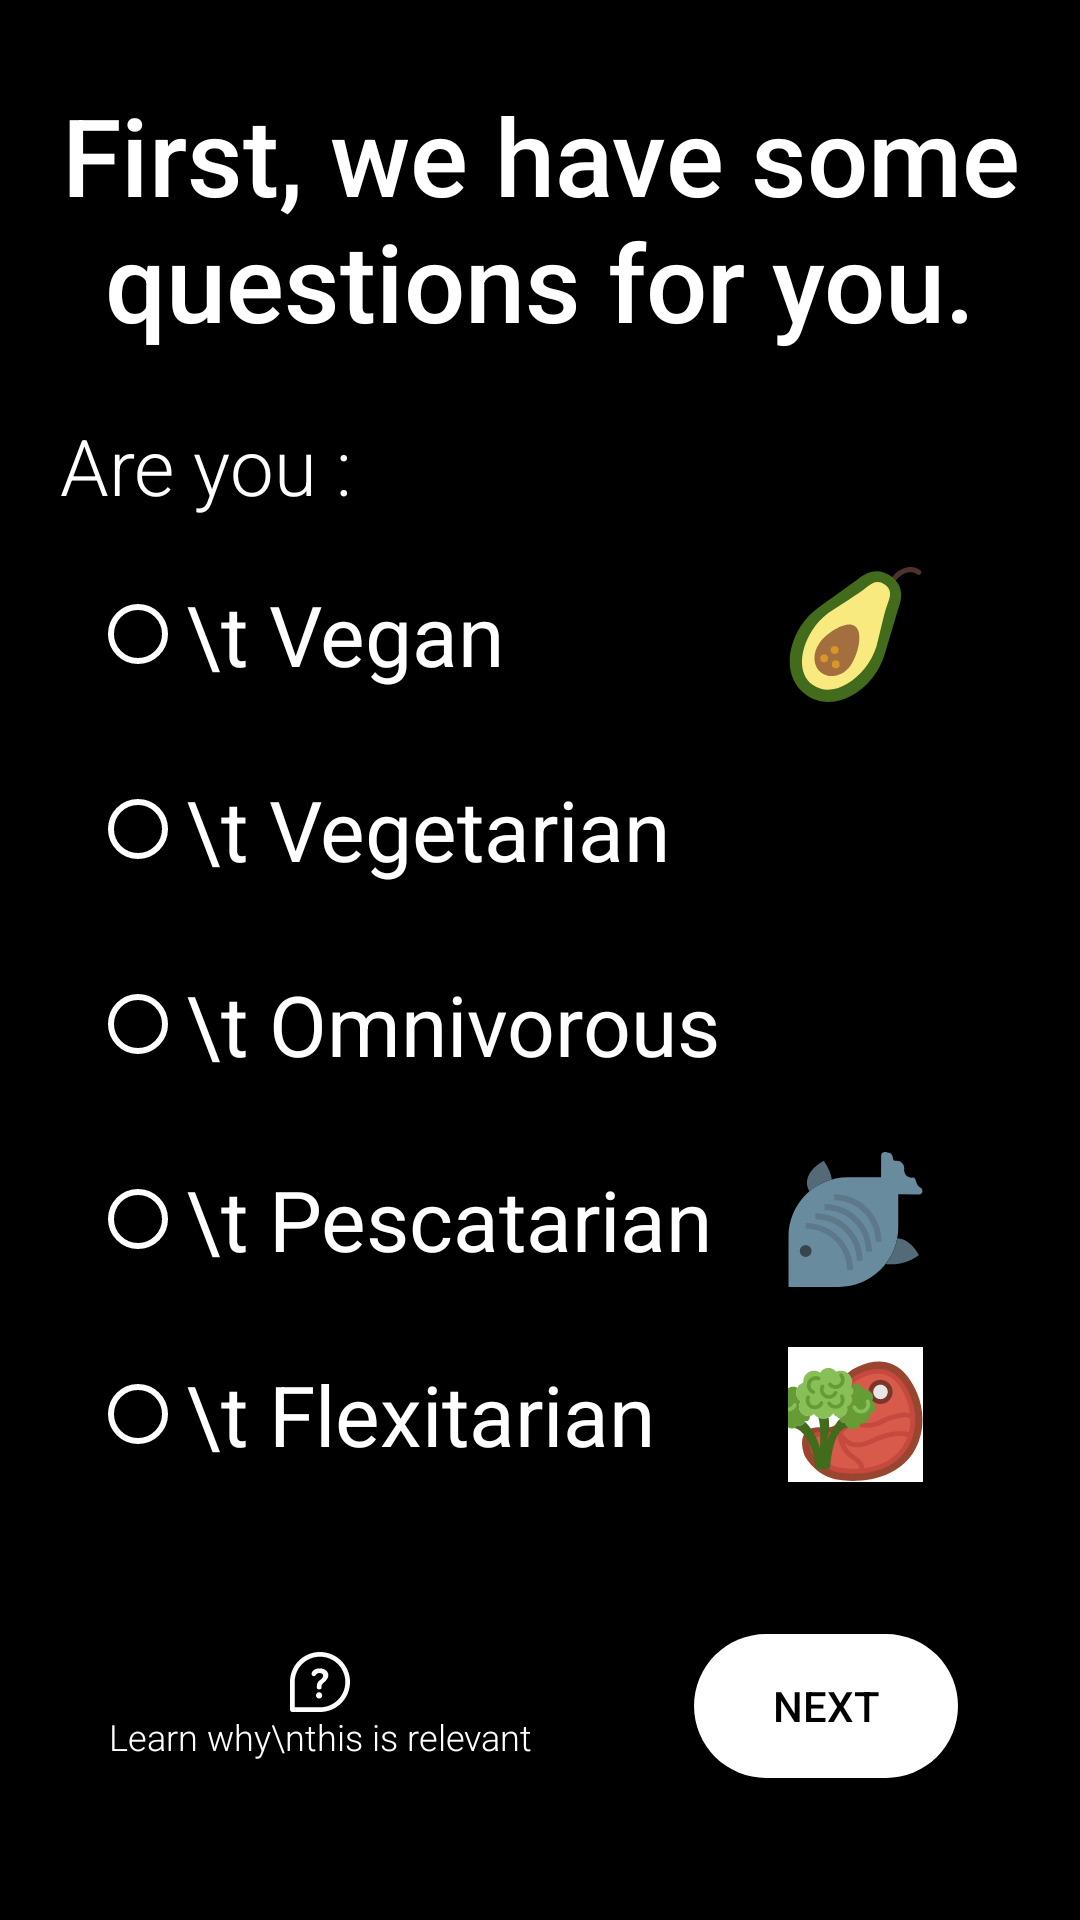

Screen size 1080×1920. Icon name, then its box in pixels as [x1=x1, y1=y1, x2=x2, y2=y2]:
avocado: [x1=789, y1=567, x2=921, y2=702]
fish: [x1=788, y1=1152, x2=923, y2=1287]
question: [x1=290, y1=1652, x2=350, y2=1712]
